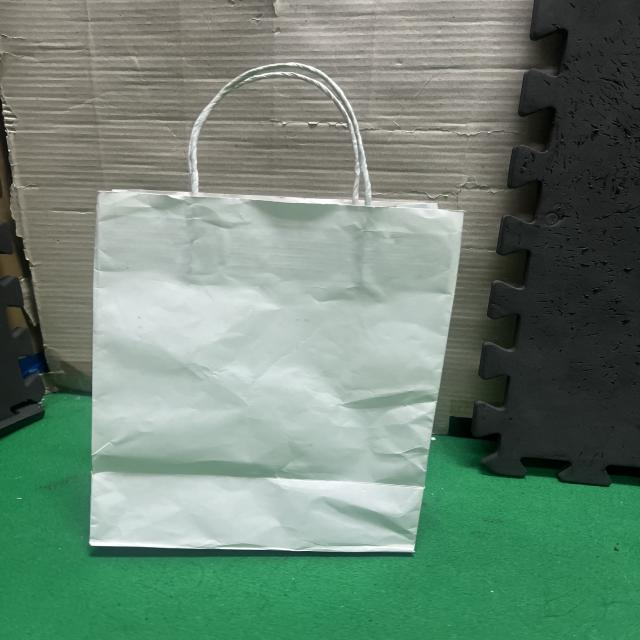paper bag: (55, 52, 484, 568)
